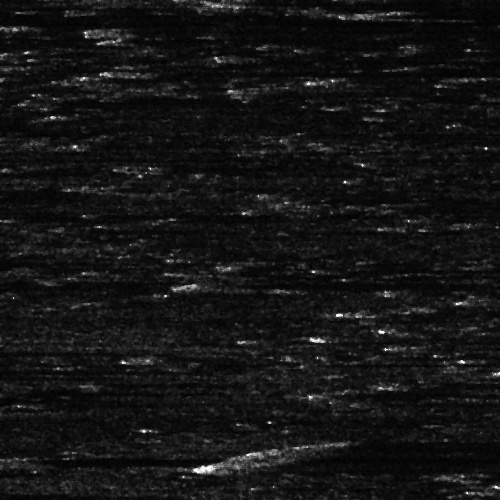object: (237, 444, 320, 467), (340, 4, 433, 21), (167, 281, 282, 290), (334, 306, 417, 317), (280, 387, 353, 398), (101, 68, 184, 77), (0, 455, 54, 466), (79, 28, 110, 33)
shadow: (279, 444, 500, 467), (224, 281, 500, 290), (0, 491, 209, 500), (316, 387, 465, 398), (0, 366, 220, 373), (0, 455, 137, 466), (386, 4, 472, 21), (376, 306, 500, 317), (0, 489, 133, 498), (0, 184, 92, 193), (0, 371, 118, 378), (143, 68, 223, 77), (95, 28, 175, 33), (0, 347, 15, 356)
